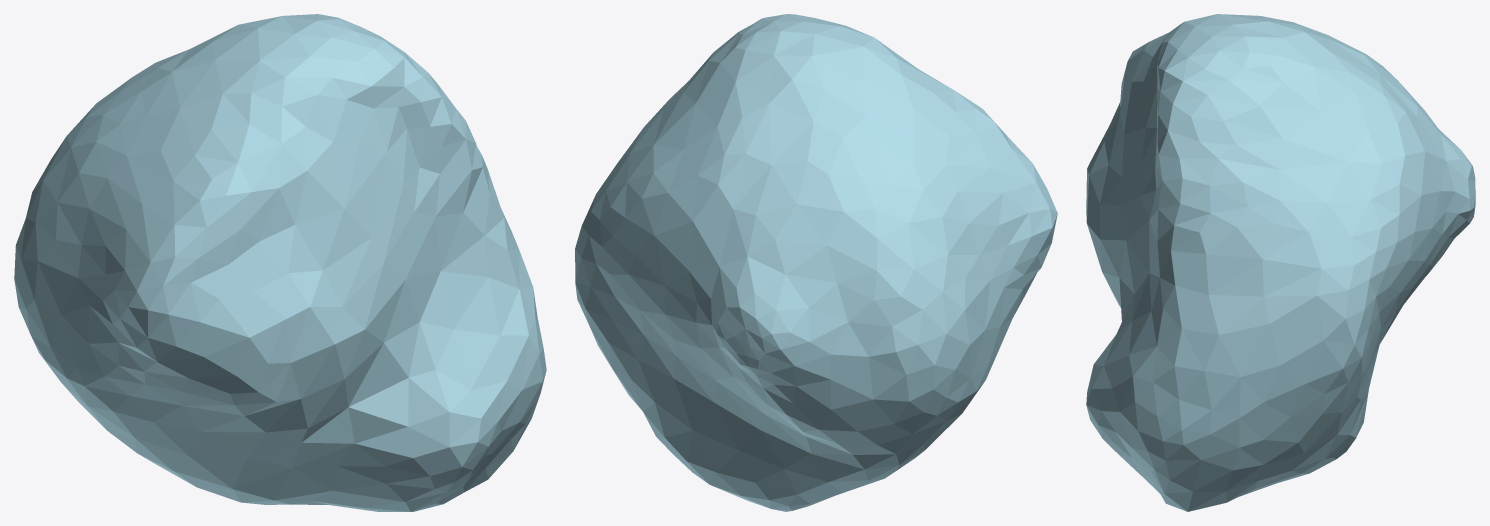
File: livertumor03.obj
3 views of the same model, side by side, from view 1: azimuth 30°, elevation 25°; view 2: azimuth 150°, elevation 25°; view 3: azimuth 270°, elevation 25° (orthographic). The views are drawn at different scales.
Parts seen in each view (by area): view 1: grp1; view 2: grp1; view 3: grp1.
Part boxes in pixels (x1,y1,x2,y2): grp1: [14, 14, 546, 511]; grp1: [575, 14, 1057, 511]; grp1: [1086, 14, 1475, 511].
Size of the model in its own units: 20.4 by 21.86 by 17.6.
